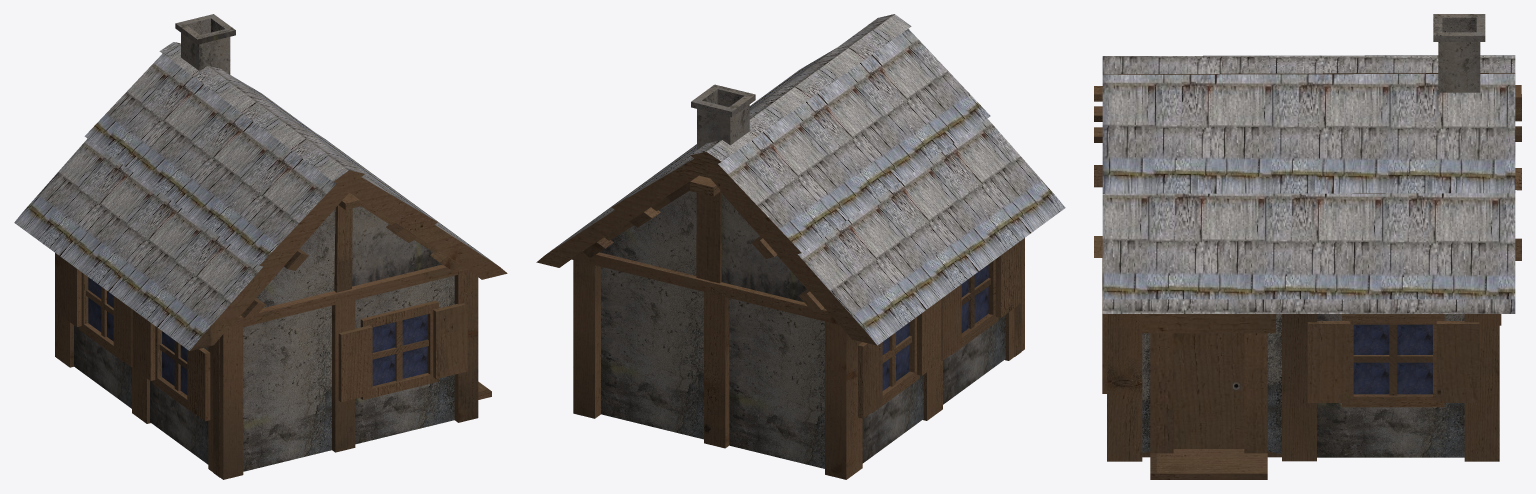
Rendered from house2022.glb.
The picture shows the model from 3 angles, left to right: view 1: azimuth 30°, elevation 25°; view 2: azimuth 150°, elevation 25°; view 3: azimuth 270°, elevation 25°; orthographic projection. The views are drawn at different scales.
Visible parts, largest first — view 1: House; view 2: House; view 3: House.
Part boxes in pixels (bbox=[...]): House: bbox=[14, 14, 507, 479]; House: bbox=[536, 14, 1065, 479]; House: bbox=[1094, 14, 1521, 479].
Size of the model in its own units: 5.04 by 4.65 by 4.92.
1 material, 1 textured.
